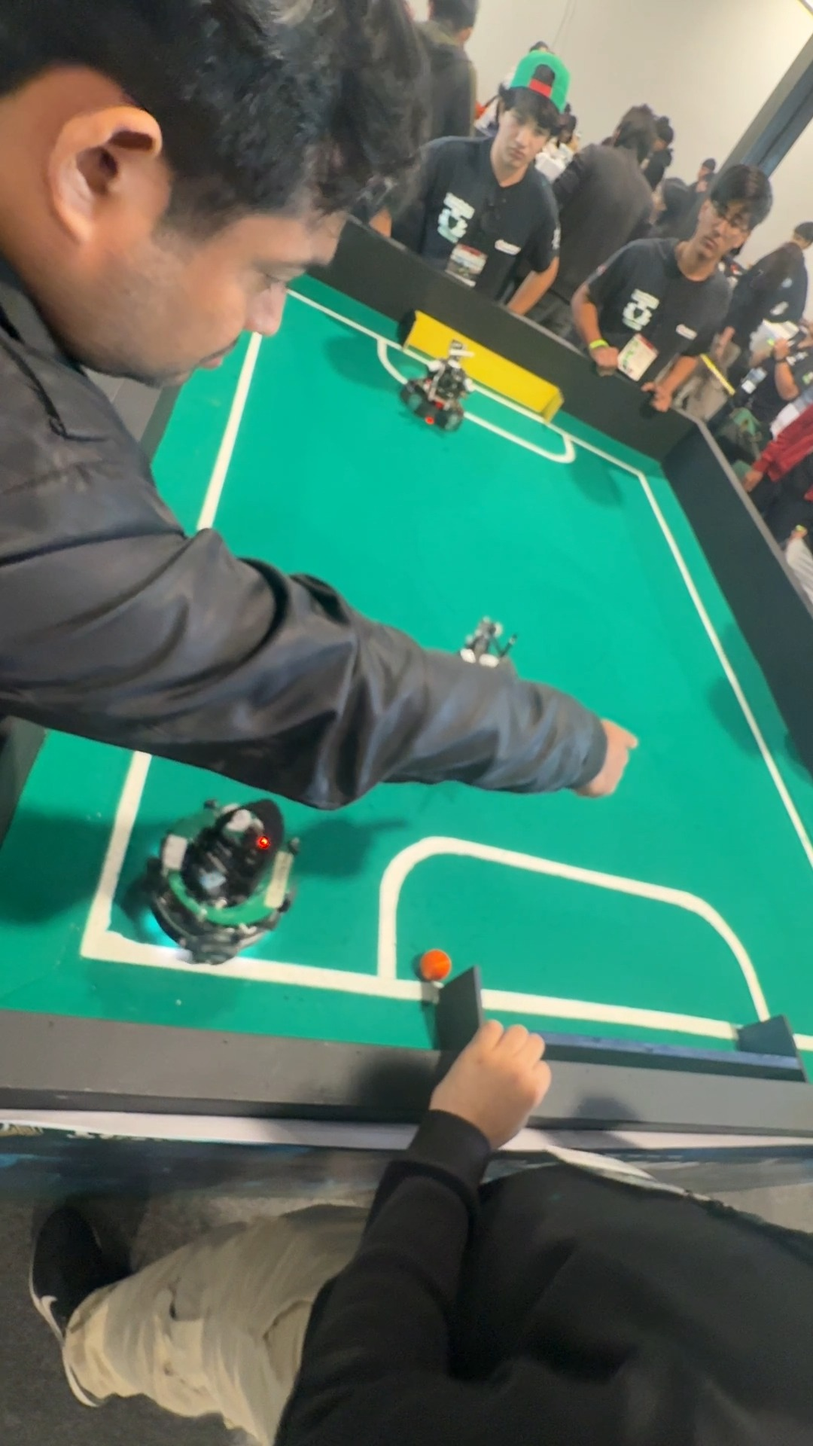Robot: (120, 791, 305, 961), (403, 344, 474, 439)
pelota: (421, 957, 454, 986)
